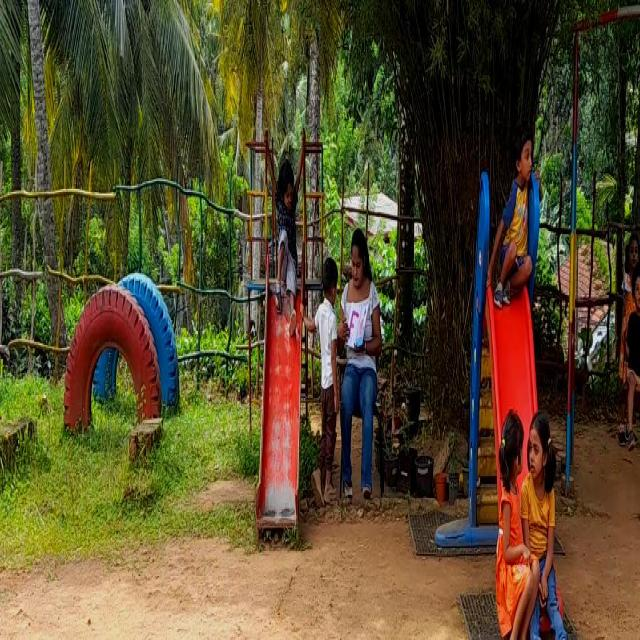adult: (337, 211, 389, 516)
child: (526, 418, 575, 640), (491, 402, 529, 640), (308, 251, 342, 506), (492, 122, 537, 306), (270, 136, 303, 328), (623, 267, 640, 474)
